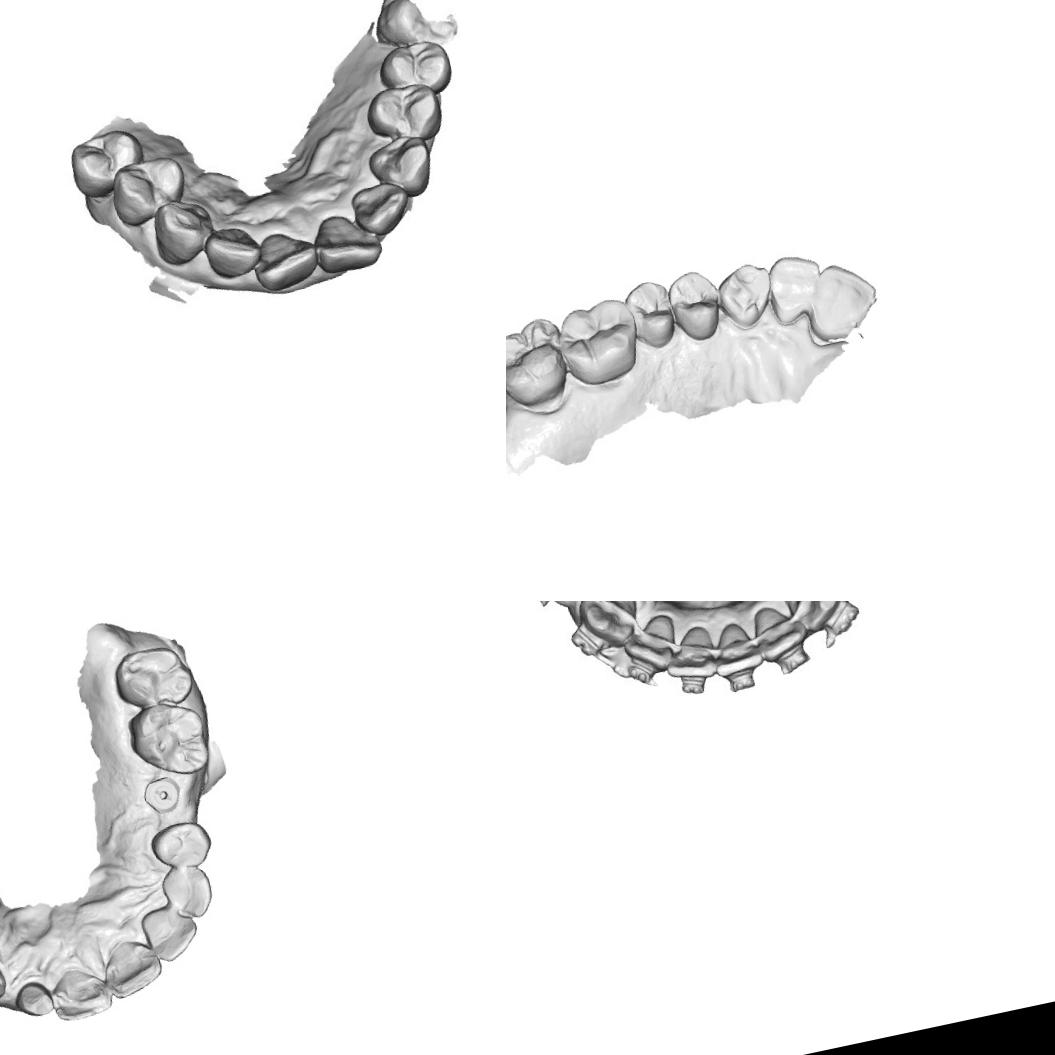canine: (145, 192, 220, 269), (364, 132, 439, 204), (709, 258, 780, 333), (156, 860, 218, 925), (573, 601, 645, 651), (777, 601, 846, 629)
crown: (10, 974, 58, 1024)
implant_minus: (138, 772, 186, 819)
incisor: (796, 256, 886, 348), (306, 205, 384, 281), (762, 248, 830, 328), (246, 222, 319, 296), (94, 932, 168, 1002), (136, 899, 204, 968), (47, 961, 116, 1026), (617, 610, 684, 672), (198, 224, 264, 286), (706, 616, 767, 681), (348, 178, 414, 238), (750, 601, 811, 662), (659, 624, 719, 686)
molar: (552, 292, 648, 392), (121, 695, 216, 787), (506, 311, 577, 419), (107, 638, 200, 717)
premolar: (104, 155, 194, 230), (63, 124, 149, 202), (370, 34, 460, 102), (360, 78, 446, 149), (664, 265, 730, 347), (620, 274, 682, 355), (146, 815, 218, 876)
